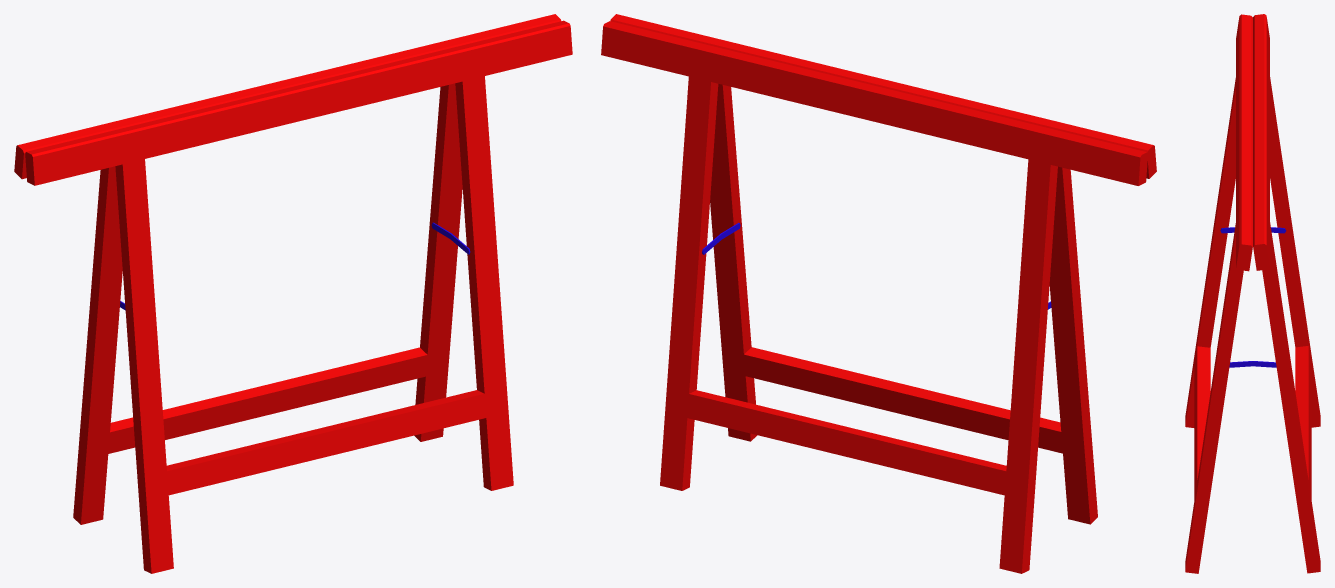
The model's file is Treteau.FBX.
3 views of the same model, side by side, from view 1: azimuth 30°, elevation 25°; view 2: azimuth 150°, elevation 25°; view 3: azimuth 270°, elevation 25° (orthographic). The views are drawn at different scales.
Visible parts, largest first — view 1: Box004; view 2: Box004; view 3: Box004.
Boxes of the visible parts, x1,y1,x2,y2 form: Box004: (14, 14, 572, 573); Box004: (601, 14, 1156, 573); Box004: (1185, 14, 1320, 573).
Size of the model in its own units: 80.32 by 59.7 by 19.99.
